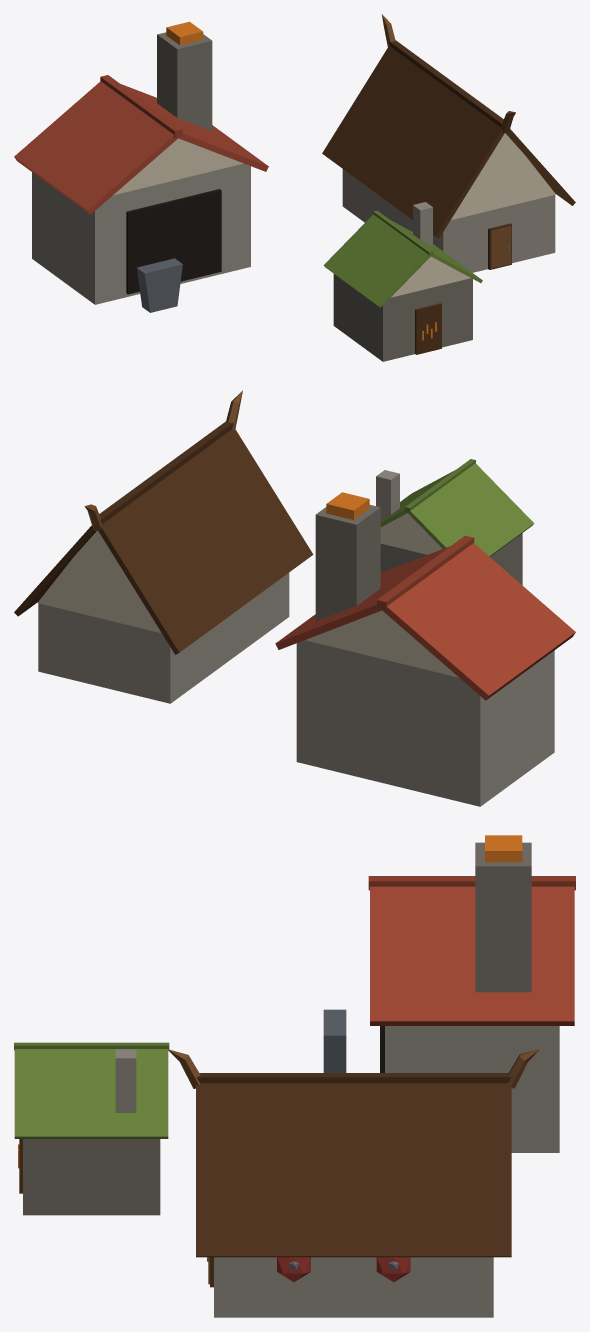
Rendered from dwarf_compound.glb.
3 views of the same model, one above another, from view 1: azimuth 30°, elevation 25°; view 2: azimuth 150°, elevation 25°; view 3: azimuth 270°, elevation 25° (orthographic). The views are drawn at different scales.
Parts seen in each view (by area): view 1: dwarf_compound; view 2: dwarf_compound; view 3: dwarf_compound.
Boxes of the visible parts, left/top/right/bottom form: dwarf_compound: left=14, top=14, right=575, bottom=361; dwarf_compound: left=14, top=390, right=575, bottom=806; dwarf_compound: left=14, top=835, right=575, bottom=1317.
Size of the model in its own units: 5.46 by 2.6 by 4.5.
